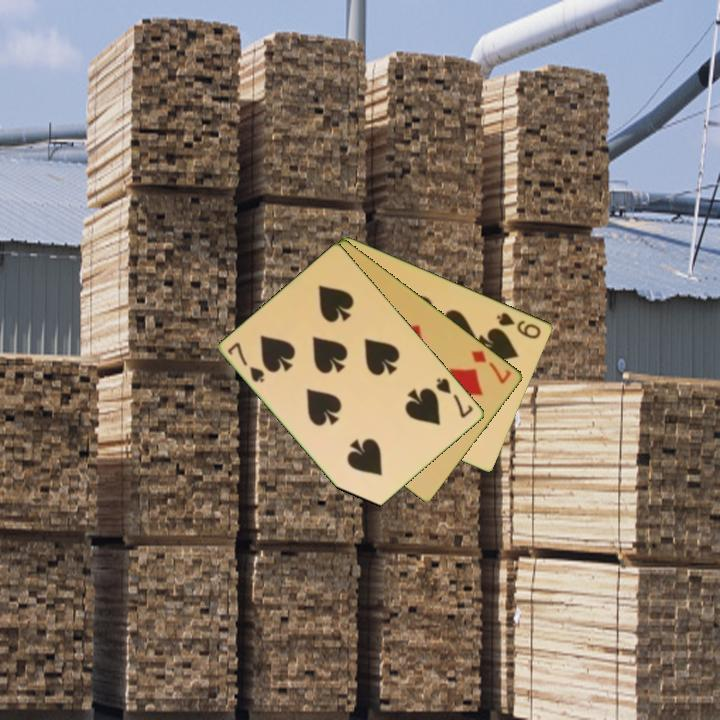7d: (468, 347, 514, 387)
7s: (224, 339, 268, 386), (433, 374, 476, 421)
9s: (493, 309, 544, 342)
